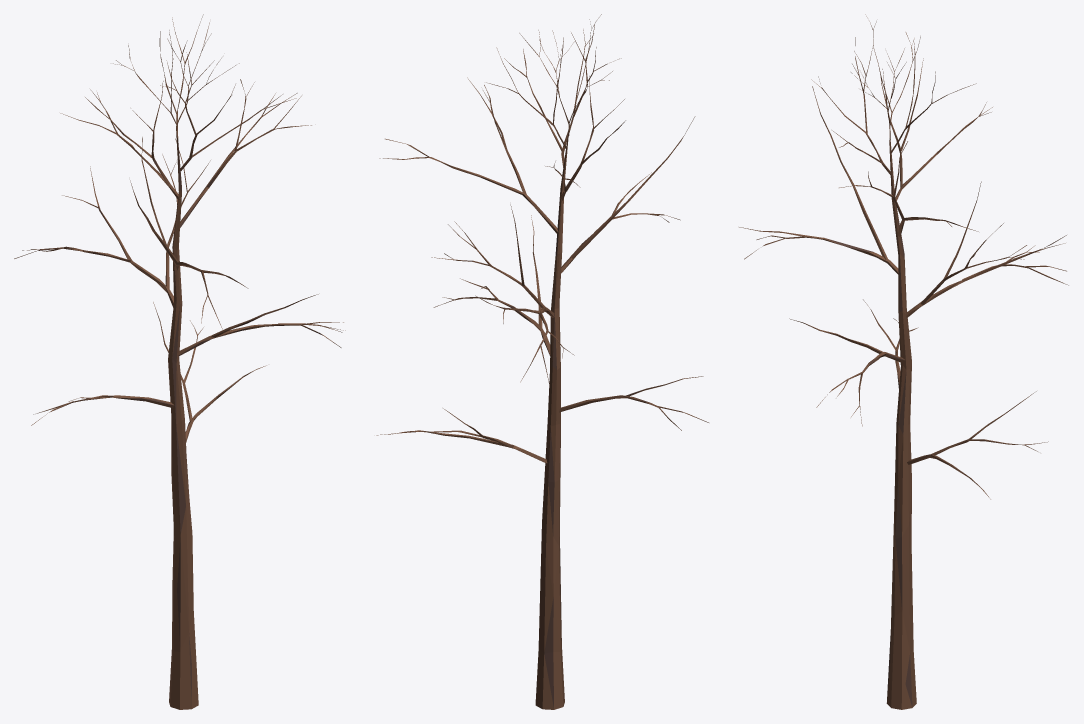
File: mesh_tree_oak_01_dead.fbx
The picture shows the model from 3 angles, left to right: view 1: azimuth 30°, elevation 25°; view 2: azimuth 150°, elevation 25°; view 3: azimuth 270°, elevation 25°; orthographic projection. The views are drawn at different scales.
Visible parts, largest first — view 1: mesh_tree_oak_01_dead_LOD0; view 2: mesh_tree_oak_01_dead_LOD0; view 3: mesh_tree_oak_01_dead_LOD0.
Part boxes in pixels (x1,y1,x2,y2): mesh_tree_oak_01_dead_LOD0: (14, 14, 345, 709); mesh_tree_oak_01_dead_LOD0: (376, 14, 708, 709); mesh_tree_oak_01_dead_LOD0: (739, 14, 1068, 709).
Size of what is drawn, in the model's own units: 5.97 by 13.26 by 5.92.
